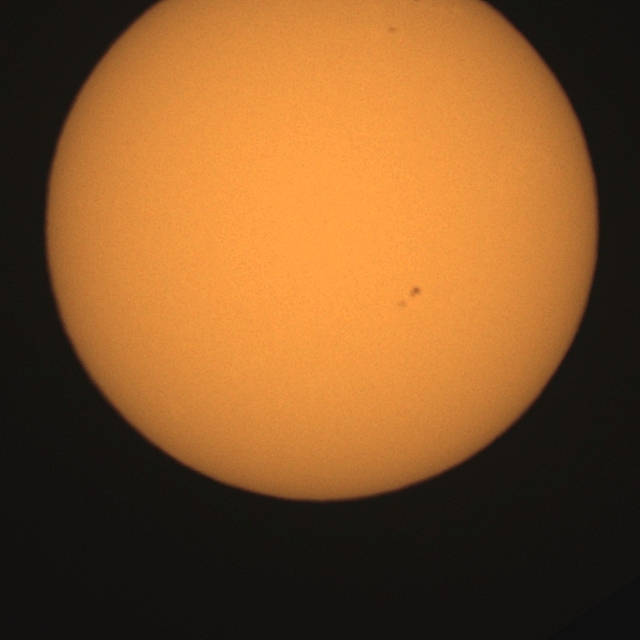sunspot: (397, 286, 422, 310), (410, 286, 422, 298)
